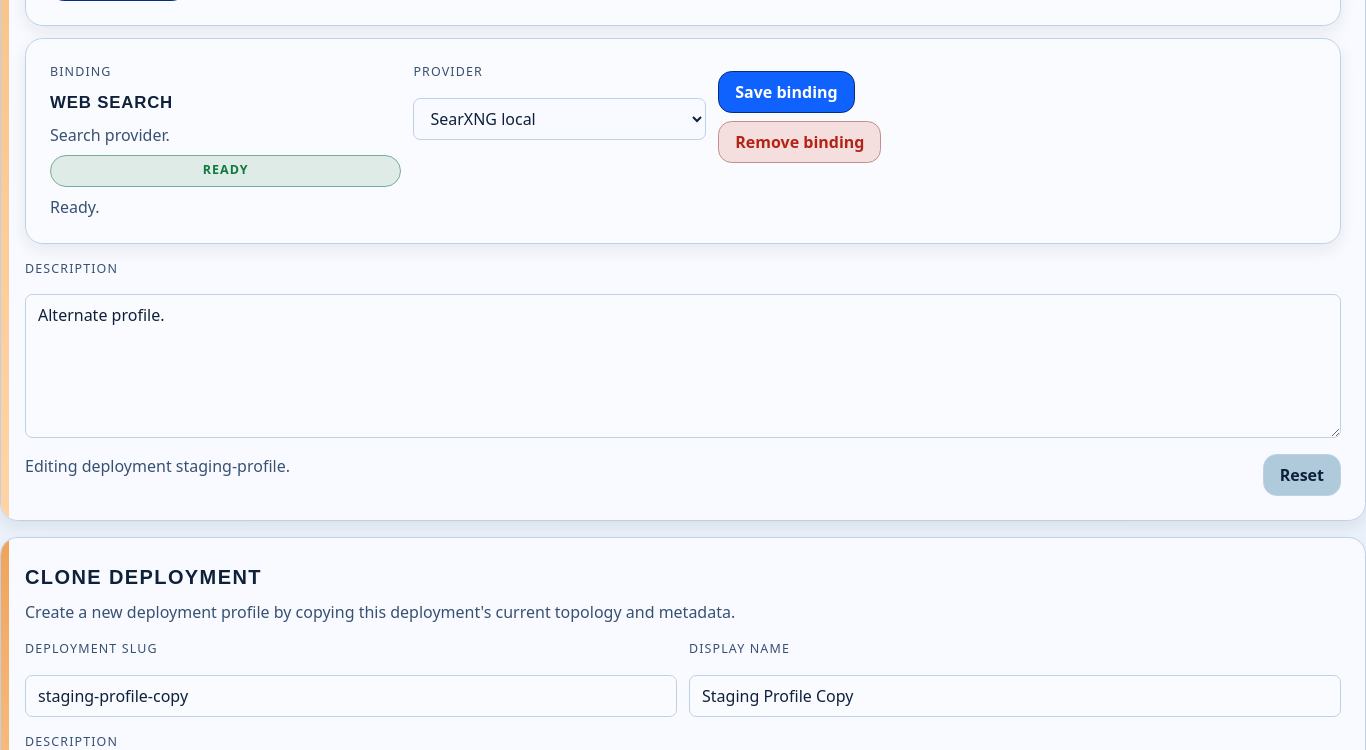
PlatformDeploymentDetailPage › confirms optional binding removal and preserves other unsaved form edits
(page scrolled)
Replace the text in the text box showing "Alternate profile." with "Unsaved deployment description". click: (683, 366)
box: [25,294,1341,438]
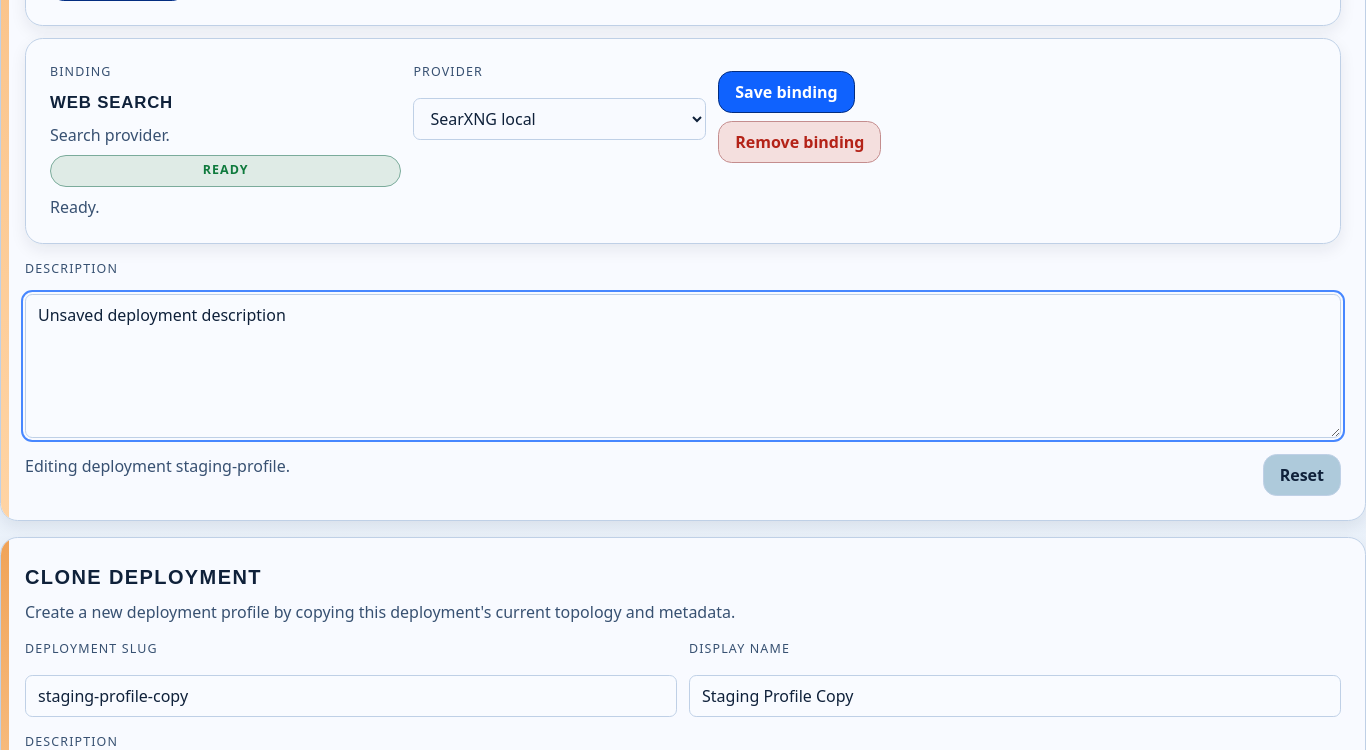
Click the button "Remove binding". click: (800, 142)
box: [718,121,882,163]
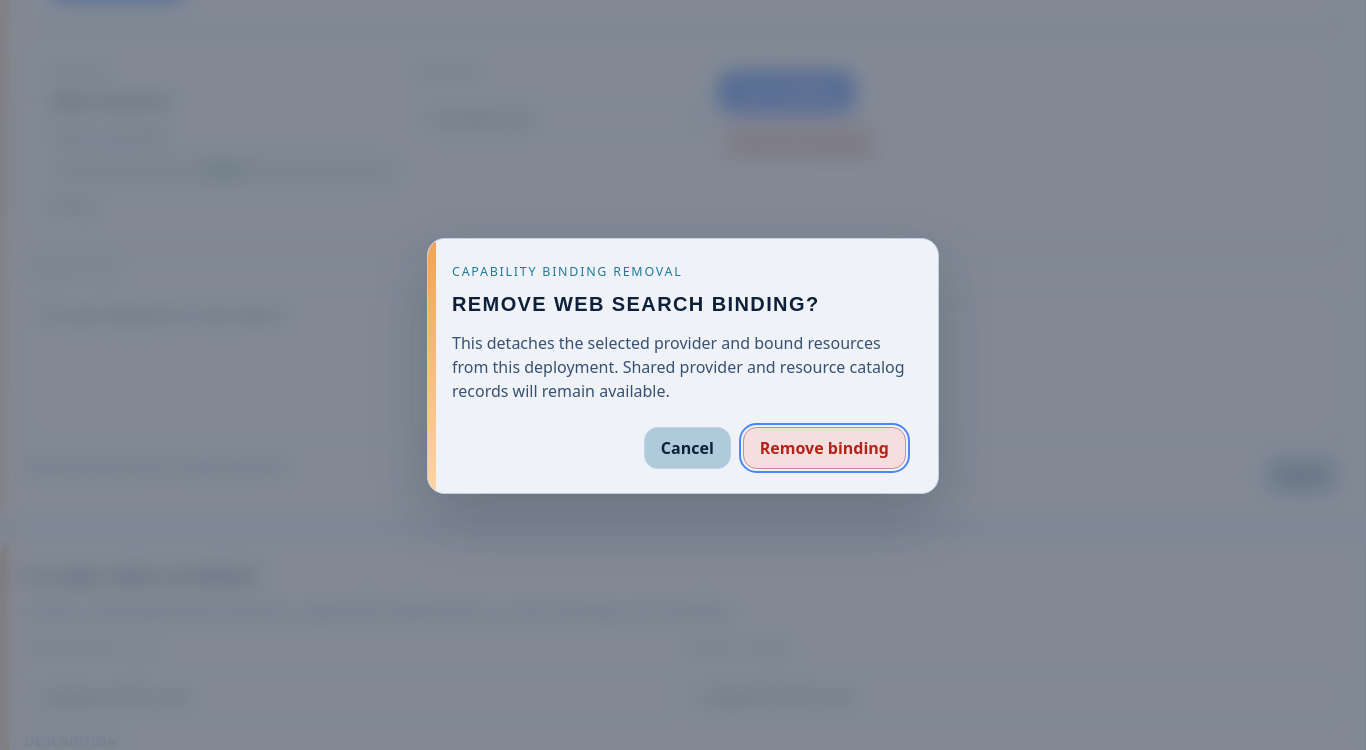
Check: the dialog "Remove Web search binding?" is shown, box [427,238,939,494]
Click the button "Remove binding". click: (824, 448)
box: [743,427,906,469]
(page scrolled)
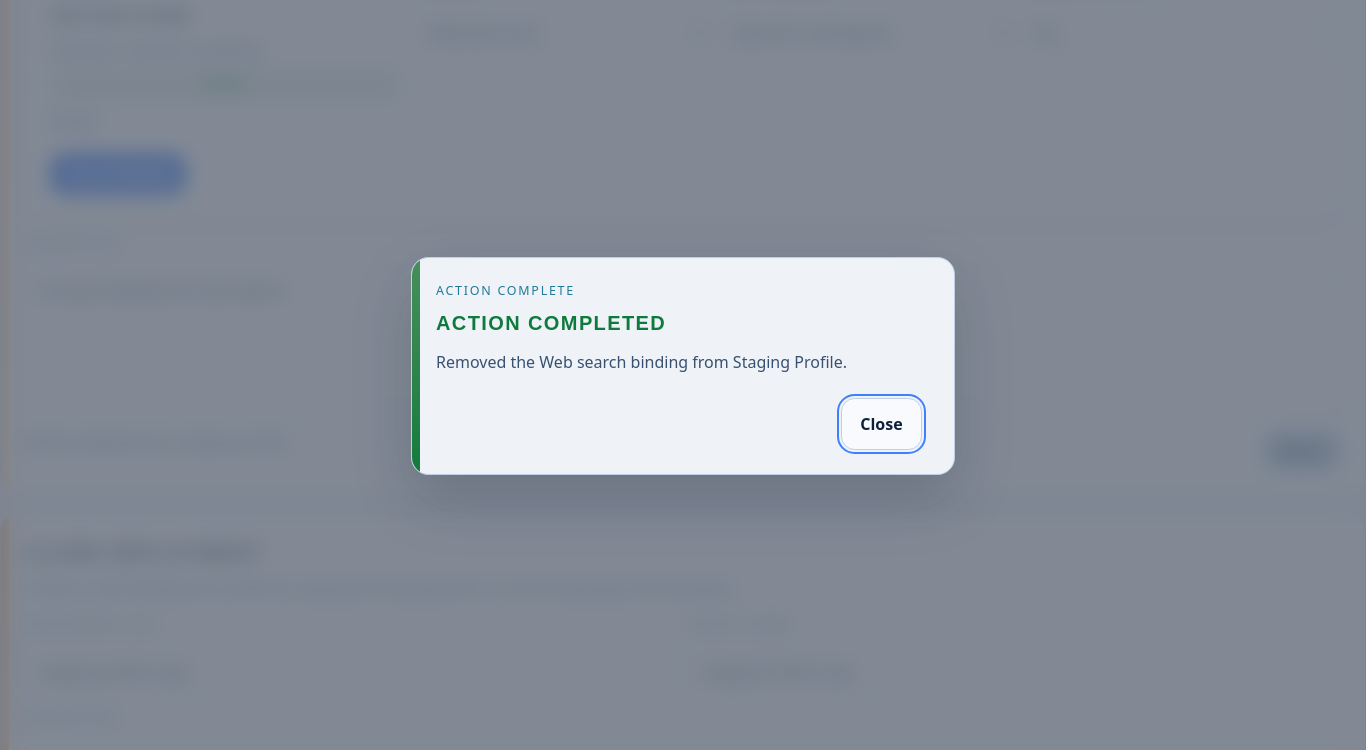
Check: the element with test id "deployment-binding-row-web_search" is gone
